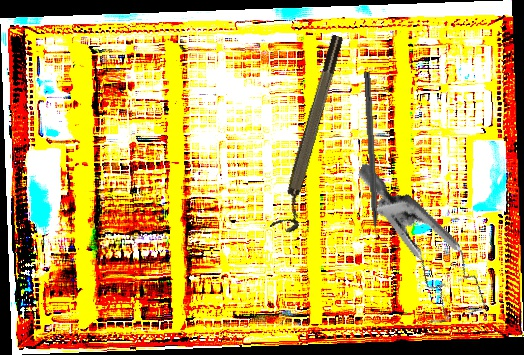Fixation Ring: (270, 33, 355, 235)
Hook Surgical: (362, 71, 381, 256)
Speculum: (315, 162, 519, 340)
